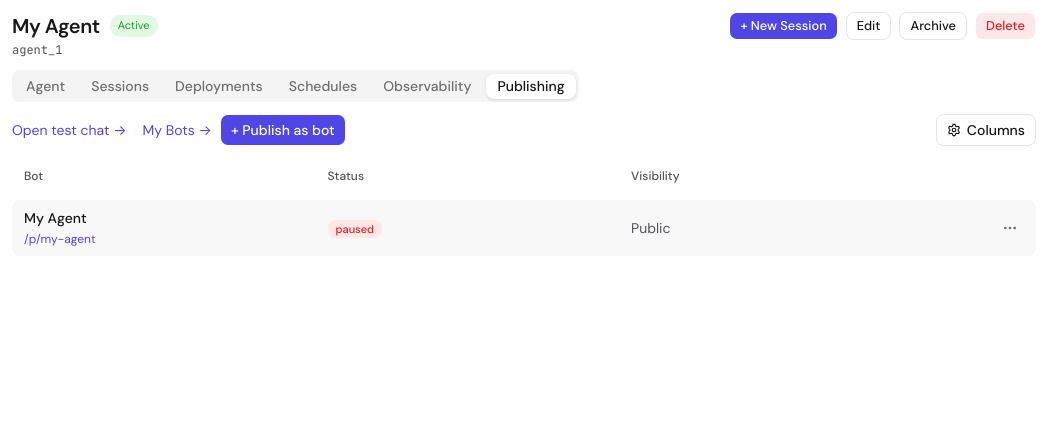
<AgentPublishingTab /> › resumes a paused publication via the row actions menu
Check: the text "paused" is shown, box [328,220,382,238]
Click the button named "Actions for My Agent".
click(1010, 228)  # box [996,214,1024,242]
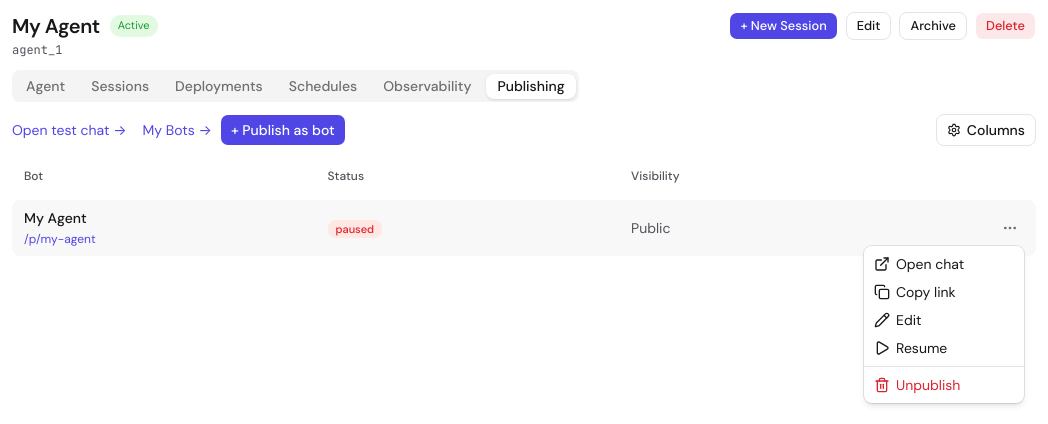
Click the menu item "Resume".
click(911, 348)  # box [874,339,947,357]
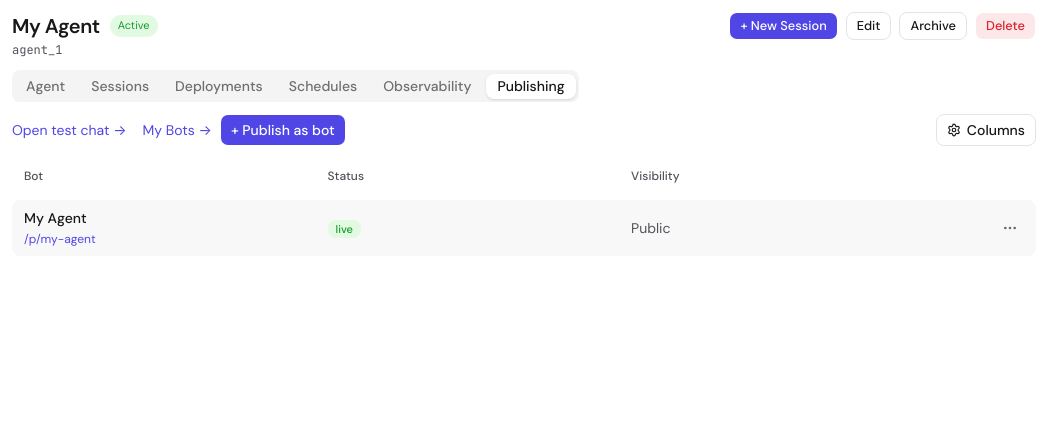
Check: the text "live" is shown, box [328,220,361,238]
